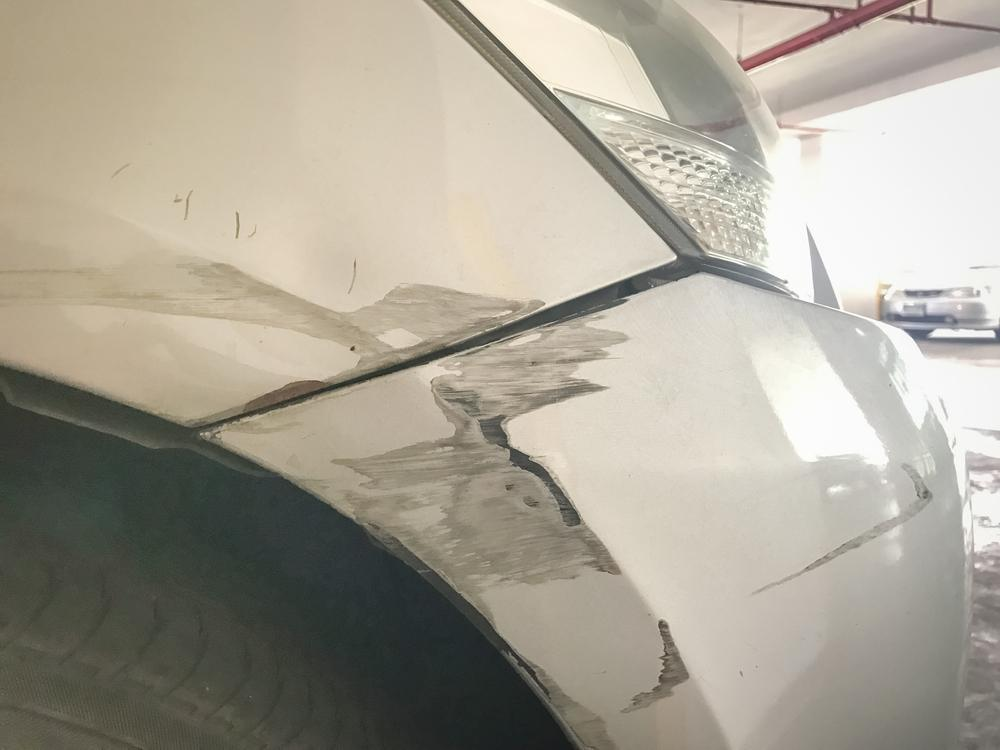scratch: (333, 295, 694, 750), (0, 255, 554, 394), (738, 462, 940, 599)
